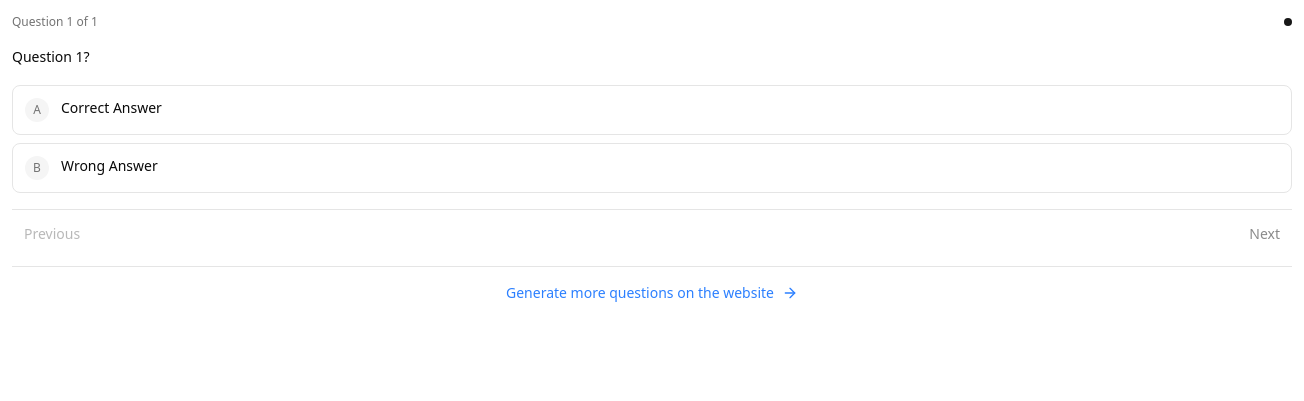
Scenario: QuizView › option selection and feedback › shows correct feedback when selecting correct answer
Click the text "Correct Answer" at [111, 107], box [61,98,162,117]
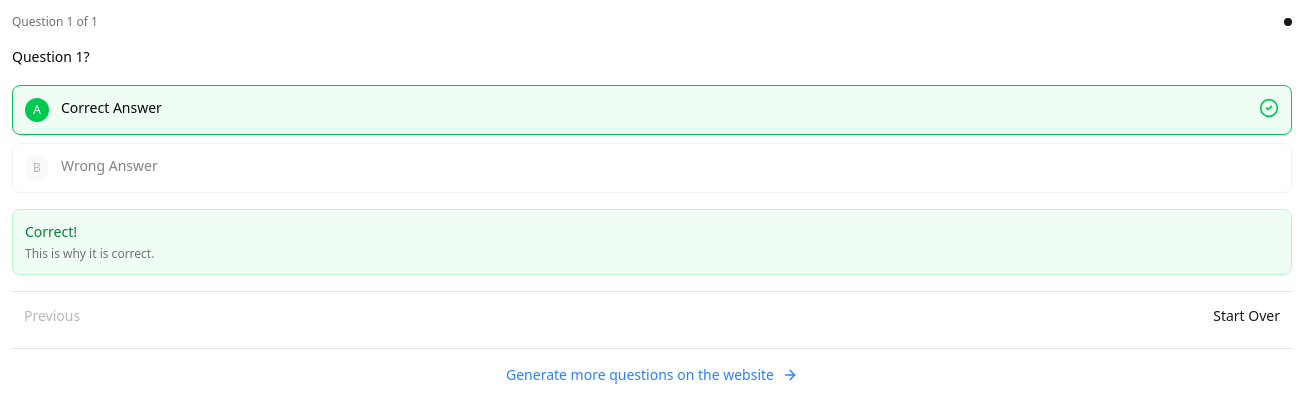
expect the text "Correct!" is shown: met, box [25,222,77,241]
expect the text "This is why it is correct." is shown: met, box [25,245,154,262]
